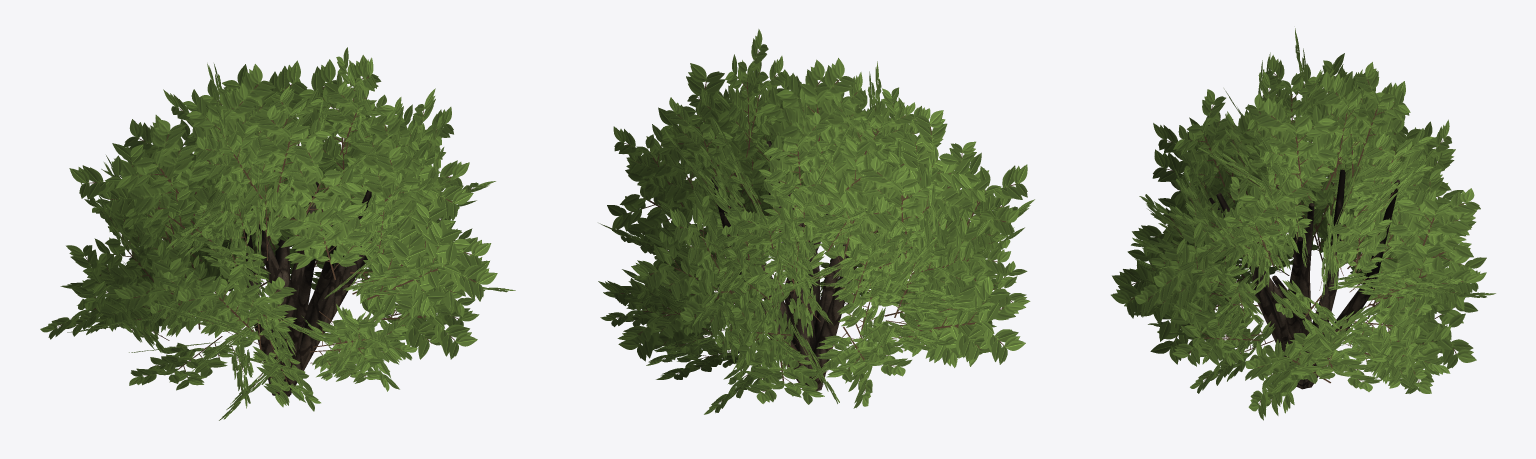
The model's file is costa_arbusto_b.glb.
The picture shows the model from 3 angles, left to right: view 1: azimuth 30°, elevation 25°; view 2: azimuth 150°, elevation 25°; view 3: azimuth 270°, elevation 25°; orthographic projection. The views are drawn at different scales.
Visible parts, largest first — view 1: costa_arbusto_b_folhas, costa_arbusto_b_tronco; view 2: costa_arbusto_b_folhas, costa_arbusto_b_tronco; view 3: costa_arbusto_b_folhas, costa_arbusto_b_tronco.
Boxes of the visible parts, left/top/right/bottom form: costa_arbusto_b_folhas: left=40, top=47, right=515, bottom=420; costa_arbusto_b_tronco: left=243, top=181, right=381, bottom=396; costa_arbusto_b_folhas: left=598, top=29, right=1034, bottom=414; costa_arbusto_b_tronco: left=711, top=141, right=866, bottom=390; costa_arbusto_b_folhas: left=1111, top=28, right=1495, bottom=420; costa_arbusto_b_tronco: left=1207, top=169, right=1399, bottom=389.
Size of the model in its own units: 2.26 by 1.59 by 1.86.
Materials: 2 (2 with a texture image).
